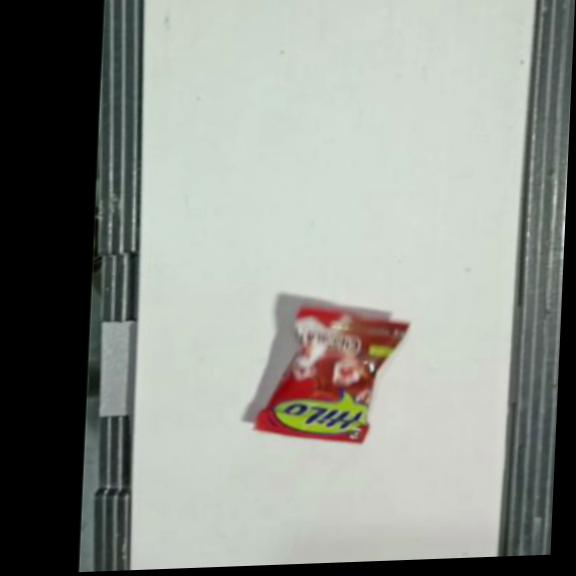Plastik: (254, 303, 408, 449)
